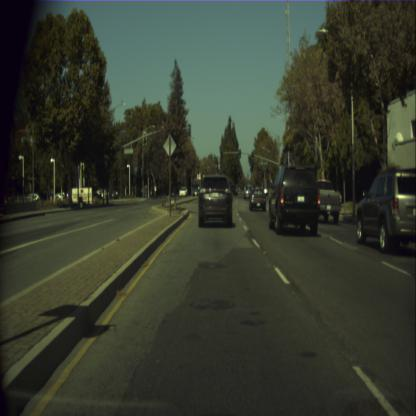Green: (252, 152, 254, 160), (238, 149, 240, 157)
off: (221, 150, 222, 158)
